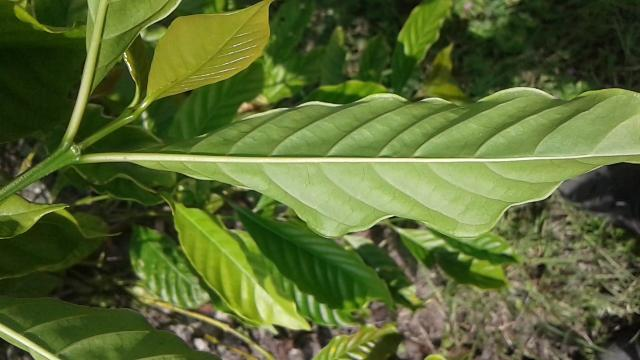healthy: (132, 87, 640, 239)
